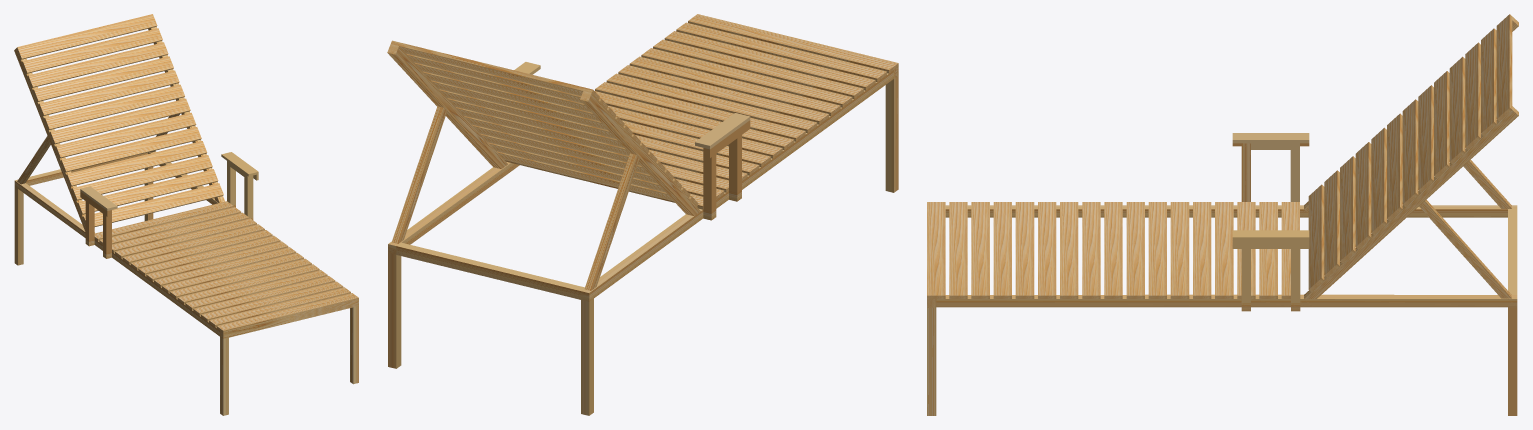
Rendered from lounge-chairs-1.glb.
3 renders of one model, left to right at view 1: azimuth 30°, elevation 25°; view 2: azimuth 150°, elevation 25°; view 3: azimuth 270°, elevation 25°, orthographic. The views are drawn at different scales.
Parts seen in each view (by area): view 1: Cube.004.4, Cube.001.1, Cube.002.2, Cube.003.3, Cube.005.5; view 2: Cube.001.1, Cube.004.4, Cube.002.2, Cube.003.3, Cube.005.5; view 3: Cube.001.1, Cube.004.4, Cube.002.2, Cube.003.3, Cube.005.5.
Boxes of the visible parts, x1,y1,x2,y2 form: Cube.004.4: (16,14,223,226); Cube.001.1: (94,201,358,332); Cube.002.2: (14,151,358,415); Cube.003.3: (14,27,224,232); Cube.005.5: (17,114,179,184); Cube.001.1: (505,14,898,209); Cube.004.4: (391,40,698,206); Cube.002.2: (388,62,898,415); Cube.003.3: (387,44,700,215); Cube.005.5: (392,106,639,290); Cube.001.1: (927,202,1299,298); Cube.004.4: (1308,14,1512,291); Cube.002.2: (927,133,1517,415); Cube.003.3: (1304,16,1518,298); Cube.005.5: (1419,159,1511,298).
Bounding box in the file's own units: 67.02 × 92.24 × 160.
5 materials, 5 textured.
